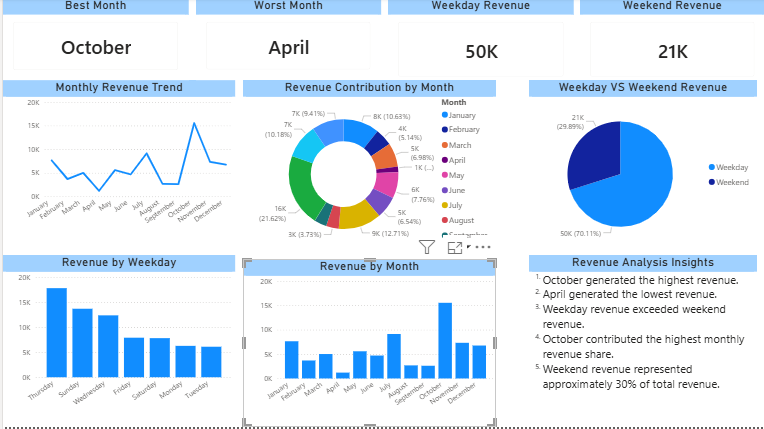

This screenshot's page, from the dashboard's own definition file:
{"tool":"powerbi","page":{"name":"Revenue Trend","canvas":[1280,720],"ordinal":3},"visuals":[{"type":"lineChart","title":"Monthly Revenue Trend","fields":{"Category":["Cleaned_messy_data.Month"],"Y":["Sum(Cleaned_messy_data.Total)"]},"box":[0,138.3,390,276.7],"z":0},{"type":"cardVisual","title":"Best Month","fields":{"Data":["Min(Cleaned_messy_data.Month)"]},"box":[0,0,311.7,138.3],"z":1000},{"type":"cardVisual","title":"Worst Month","fields":{"Data":["Min(Cleaned_messy_data.Month)"]},"box":[324.2,0,310.8,137.7],"z":2000},{"type":"cardVisual","title":"Weekday Revenue","fields":{"Data":["Sum(Cleaned_messy_data.Total)"]},"box":[646.7,0,312.4,149.5],"z":3000},{"type":"cardVisual","title":"Weekend Revenue","fields":{"Data":["Sum(Cleaned_messy_data.Total)"]},"box":[969.2,0,310.8,149.5],"z":4000},{"type":"columnChart","title":"Revenue by Weekday","fields":{"Category":["Cleaned_messy_data.Weekday"],"Y":["Sum(Cleaned_messy_data.Total)"]},"box":[0,431.7,390,288.3],"z":5000},{"type":"donutChart","title":"Revenue Contribution by Month","fields":{"Category":["Cleaned_messy_data.Month"],"Y":["Sum(Cleaned_messy_data.Total)"]},"box":[403.3,138.3,425,293.3],"z":6000},{"type":"columnChart","title":"Revenue by Month","fields":{"Category":["Cleaned_messy_data.Month"],"Y":["Sum(Cleaned_messy_data.Total)"]},"box":[403.3,438.3,425,281.7],"z":7000},{"type":"pieChart","title":"Weekday VS Weekend Revenue","fields":{"Category":["Cleaned_messy_data.Day_Type"],"Y":["Sum(Cleaned_messy_data.Total)"]},"box":[883.3,138.3,383.3,293.3],"z":8000},{"type":"textbox","title":"Revenue Analysis Insights","box":[883.3,431.7,383.3,288.3],"z":9000}]}

Visuals, with their boxes in screenshot pixels (x1, y1, x2, y2), scaled from the page's 1280x720 canvas onto the 764x429 screenshot:
"Monthly Revenue Trend" lineChart: <region>0, 82, 233, 247</region>
"Best Month" cardVisual: <region>0, 0, 186, 82</region>
"Worst Month" cardVisual: <region>194, 0, 379, 82</region>
"Weekday Revenue" cardVisual: <region>386, 0, 572, 89</region>
"Weekend Revenue" cardVisual: <region>578, 0, 763, 89</region>
"Revenue by Weekday" columnChart: <region>0, 257, 233, 428</region>
"Revenue Contribution by Month" donutChart: <region>241, 82, 494, 257</region>
"Revenue by Month" columnChart: <region>241, 261, 494, 428</region>
"Weekday VS Weekend Revenue" pieChart: <region>527, 82, 756, 257</region>
"Revenue Analysis Insights" textbox: <region>527, 257, 756, 428</region>
